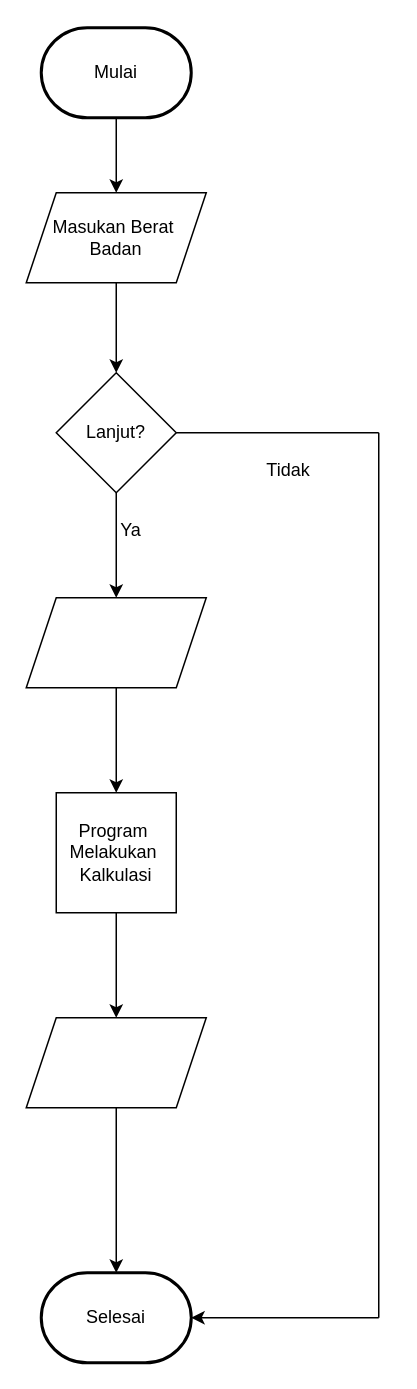
Some shapes in this 417 by 1389 pixel diagram are drawn without their labels. The shapes that lost their labels are listed below. From the top down, each one's centre as x and y in pixels, then its label:
At [115,642]: "Masukan Tinggi Badan".
At [115,1062]: "Hasil BMI".
